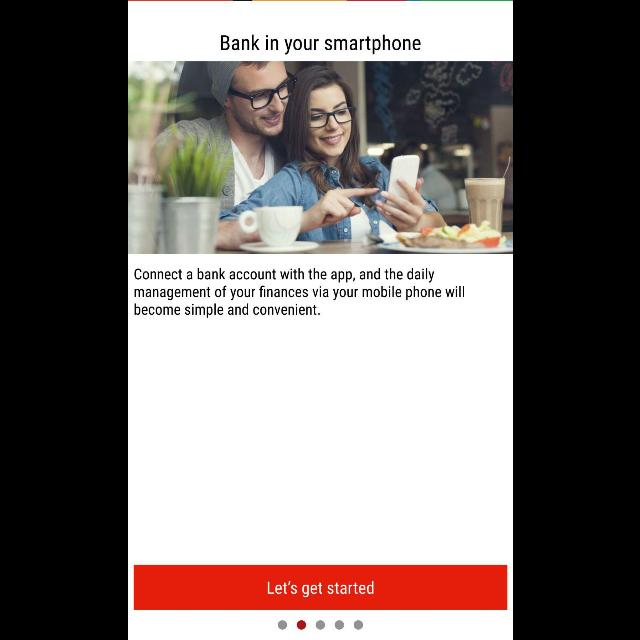image: (128, 62, 512, 254)
pageindicator: (276, 620, 364, 630)
text: (132, 268, 464, 318), (220, 33, 420, 55)
textbutton: (133, 564, 507, 610)
